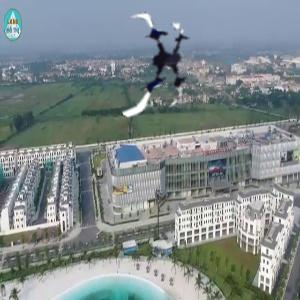drone: (105, 8, 210, 113)
